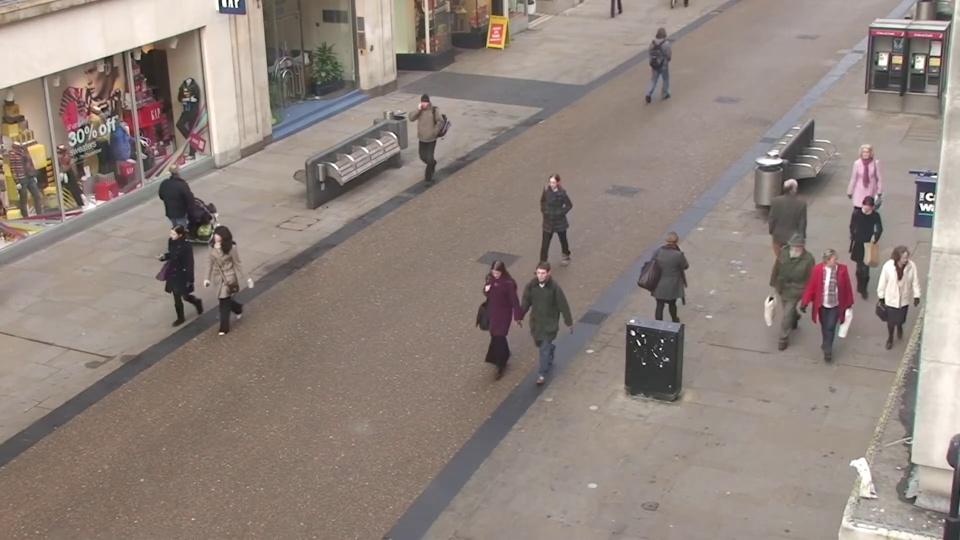pedestrian: (867, 241, 921, 372), (801, 247, 850, 378), (151, 221, 201, 342), (765, 234, 812, 362), (471, 260, 515, 395), (194, 223, 242, 345), (517, 260, 560, 394), (839, 197, 886, 316), (654, 222, 696, 347), (769, 172, 810, 284), (164, 156, 207, 260), (839, 145, 881, 251), (529, 171, 565, 283), (404, 93, 435, 182), (652, 23, 676, 93)
